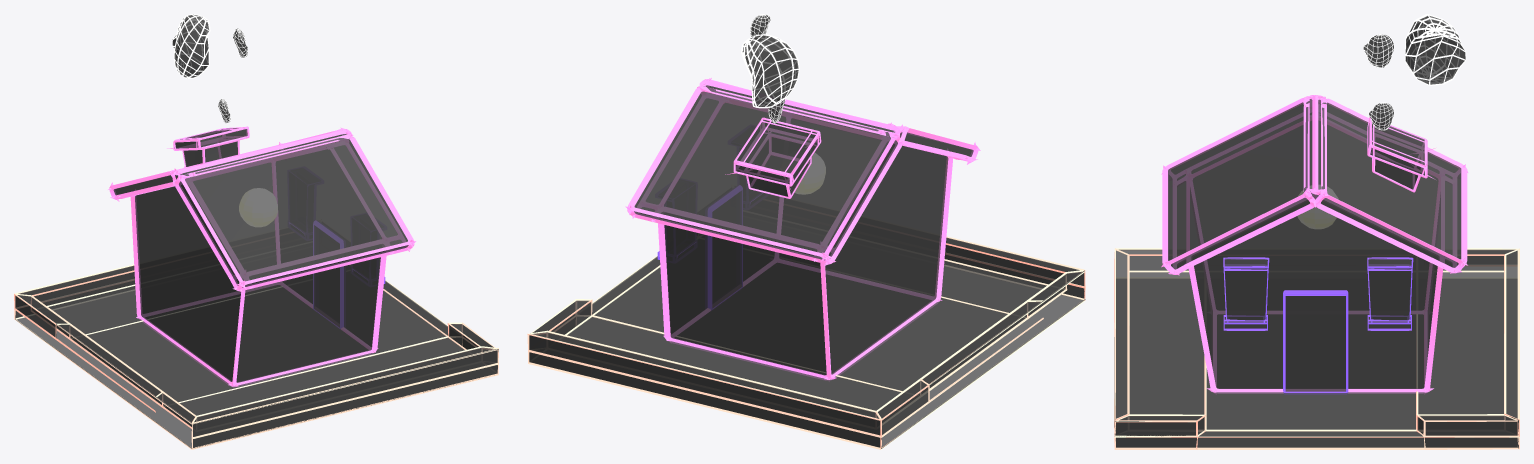
Rendered from portfoliohome.glb.
3 renders of one model, left to right at view 1: azimuth 30°, elevation 25°; view 2: azimuth 150°, elevation 25°; view 3: azimuth 270°, elevation 25°, orthographic. The views are drawn at different scales.
Parts seen in each view (by area): view 1: House, Floor, Door, Big Cloud, Chimney, Sphere; view 2: House, Floor, Chimney, Big Cloud, Door, Sphere; view 3: House, Floor, Door, WindowL, Big Cloud, Chimney, CloudH, Sphere, CloudL.
Boxes of the visible parts, x1=… form: House: x1=108, y1=127, x2=416, y2=387; Floor: x1=14, y1=264, x2=498, y2=449; Door: x1=313, y1=221, x2=343, y2=328; Big Cloud: x1=172, y1=14, x2=210, y2=78; Chimney: x1=167, y1=126, x2=249, y2=167; Sphere: x1=239, y1=188, x2=277, y2=226; House: x1=625, y1=78, x2=980, y2=380; Floor: x1=527, y1=236, x2=1085, y2=449; Chimney: x1=725, y1=117, x2=821, y2=198; Big Cloud: x1=741, y1=34, x2=799, y2=108; Door: x1=708, y1=185, x2=742, y2=309; Sphere: x1=795, y1=153, x2=825, y2=194; House: x1=1161, y1=95, x2=1468, y2=393; Floor: x1=1114, y1=248, x2=1519, y2=449; Door: x1=1283, y1=290, x2=1348, y2=394; WindowL: x1=1223, y1=257, x2=1413, y2=330; Big Cloud: x1=1404, y1=14, x2=1466, y2=85; Chimney: x1=1367, y1=117, x2=1435, y2=192; CloudH: x1=1363, y1=34, x2=1394, y2=68; Sphere: x1=1298, y1=185, x2=1338, y2=228; CloudL: x1=1368, y1=102, x2=1394, y2=130.
Size of the model in its own units: 7.14 by 6.61 by 7.14.
